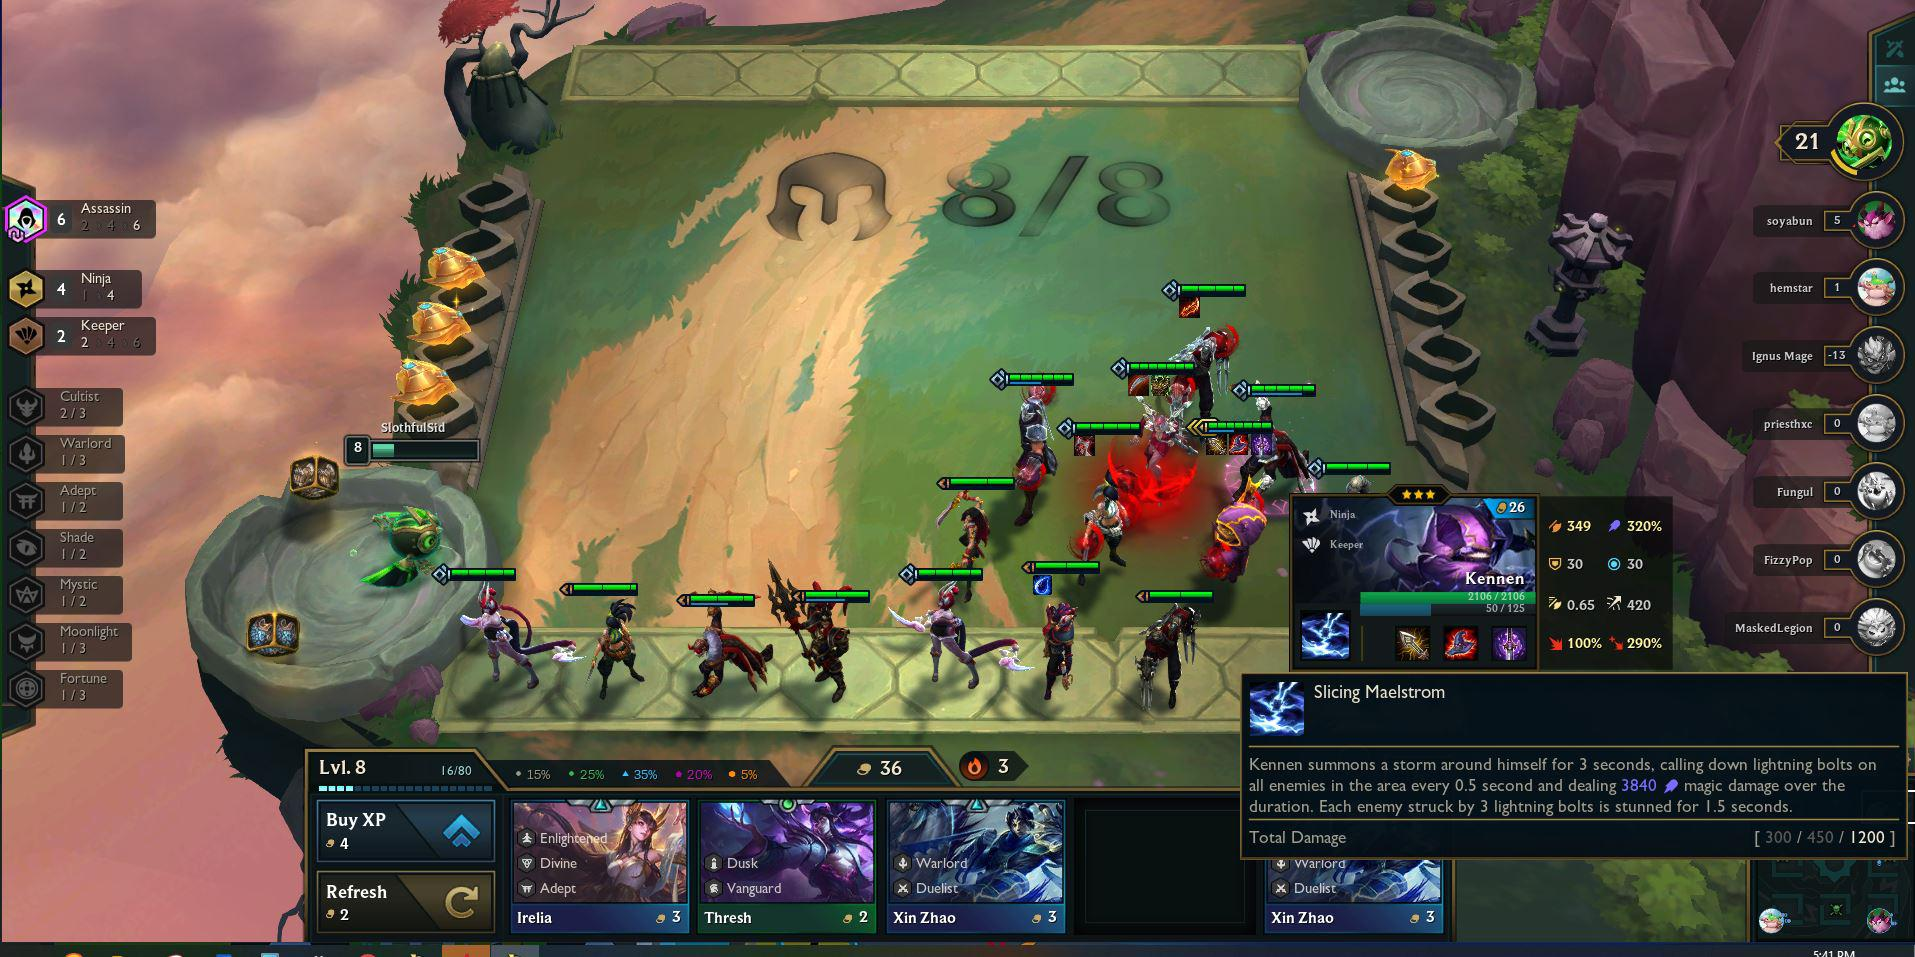1star_akali: (550, 555, 658, 732)
1star_jarvaniv: (758, 547, 883, 735)
1star_jhin: (1001, 543, 1115, 730)
1star_katarina: (916, 468, 1030, 614)
1star_pyke: (656, 565, 784, 737)
1star_zed: (1106, 575, 1224, 734)
2star_akali: (1052, 414, 1154, 601)
2star_evelynn: (427, 532, 589, 721), (876, 535, 1039, 719)
2star_pyke: (1214, 369, 1341, 525)
2star_pyke_chosen: (1212, 367, 1339, 522)
2star_shen: (984, 352, 1089, 542)
2star_zed: (1135, 264, 1265, 469)
3star_kennen: (1169, 410, 1285, 623)
item_dclaw: (1124, 364, 1159, 399)
item_guinsoo: (1175, 287, 1205, 323)
item_ie: (1203, 427, 1234, 460)
item_rabadons: (1224, 425, 1258, 459)
item_tear: (1030, 565, 1056, 598)
item_warmogs: (1143, 367, 1179, 404)
item_youmuu: (1251, 428, 1276, 455)
item_zeke: (1066, 427, 1103, 461)
trait_adept1: (1, 469, 165, 527)
trait_assassin6: (1, 190, 165, 248)
trait_assassin_chosen: (1, 190, 54, 247)
trait_cultist2: (1, 376, 165, 435)
trait_fortune1: (1, 659, 165, 717)
trait_keeper2: (1, 309, 165, 367)
trait_moonlight1: (1, 612, 165, 670)
trait_mystic1: (1, 565, 165, 623)
trait_ninja4: (1, 260, 165, 319)
trait_shade1: (1, 514, 165, 572)
trait_warlord1: (1, 420, 165, 478)
